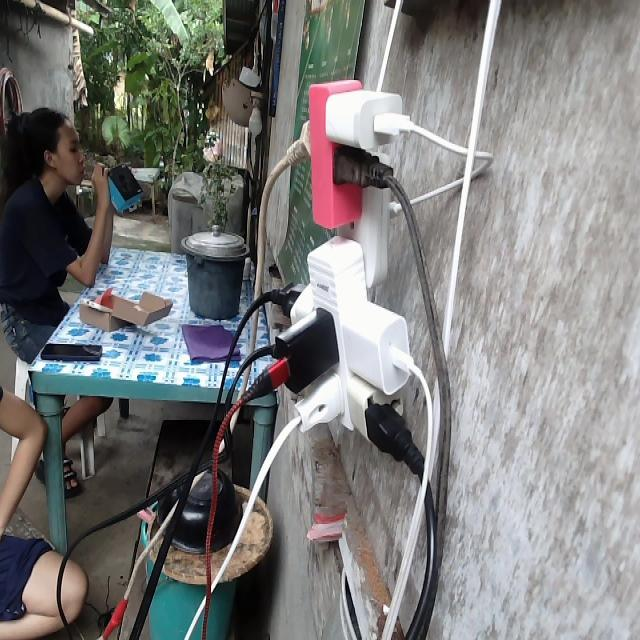-: (260, 71, 443, 464)
